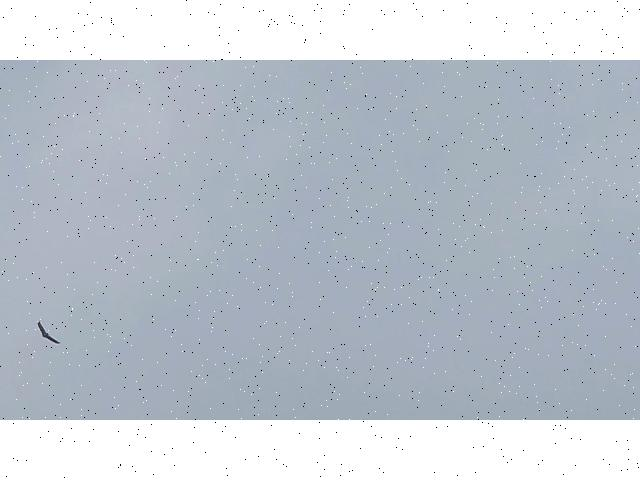Anti-Drone: (36, 320, 62, 344)
